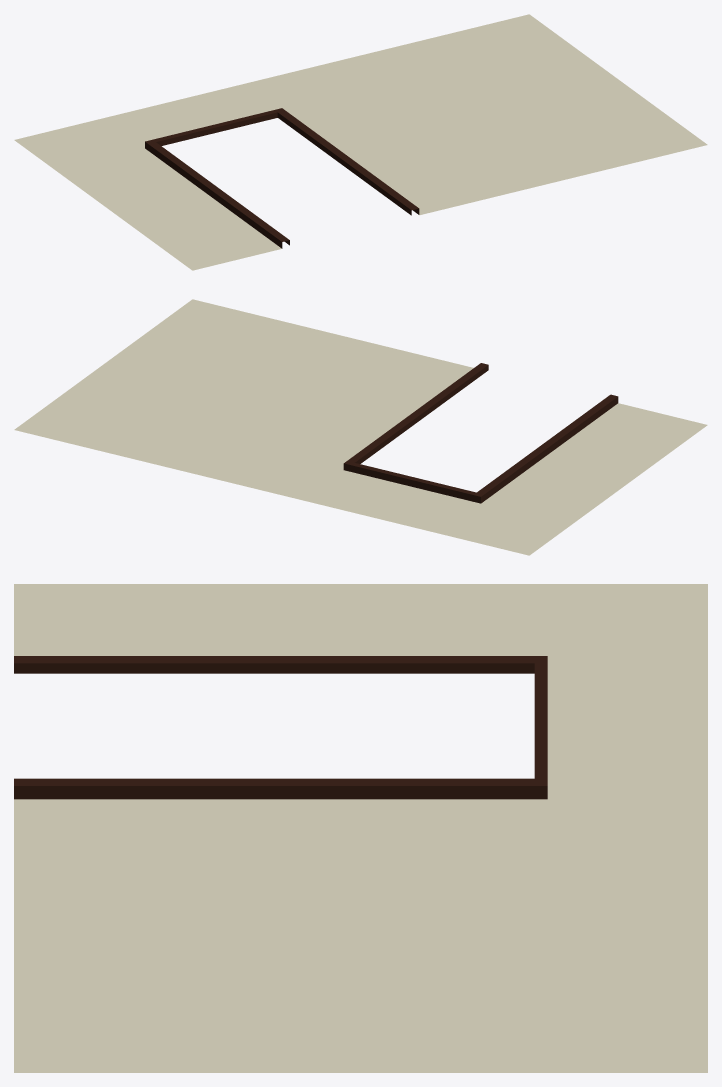
The model's file is doorwall2.fbx.
3 views of the same model, one above another, from view 1: azimuth 30°, elevation 25°; view 2: azimuth 150°, elevation 25°; view 3: azimuth 270°, elevation 25° (orthographic). The views are drawn at different scales.
Parts seen in each view (by area): view 1: Plane; view 2: Plane; view 3: Plane.
Part boxes in pixels (box(x1,y1,x2,y2)): Plane: box(14, 14, 707, 270); Plane: box(14, 299, 707, 555); Plane: box(14, 584, 707, 1072).
Size of the model in its own units: 500 by 6.28 by 300.
